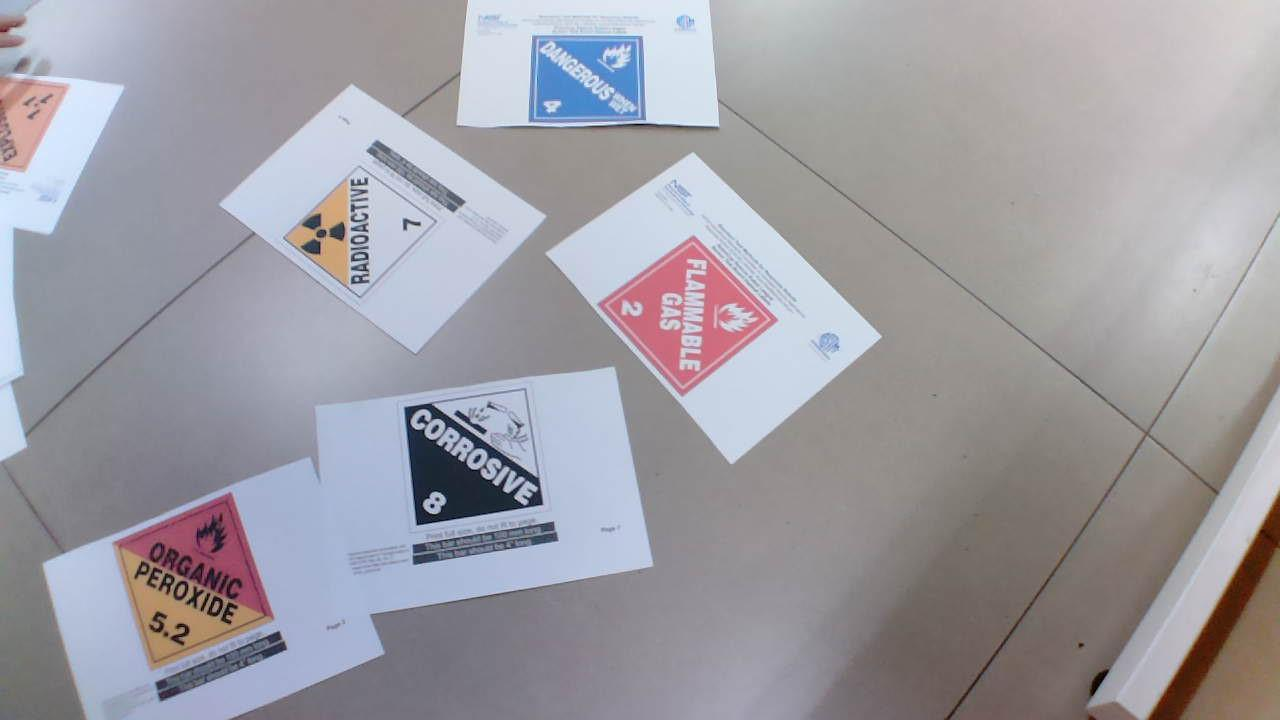corrosive: (393, 386, 555, 531)
dangerous-when-wet: (524, 28, 649, 124)
flammable: (599, 236, 779, 394)
organic-peroxide: (110, 493, 280, 659)
radioactive: (284, 166, 433, 305)
